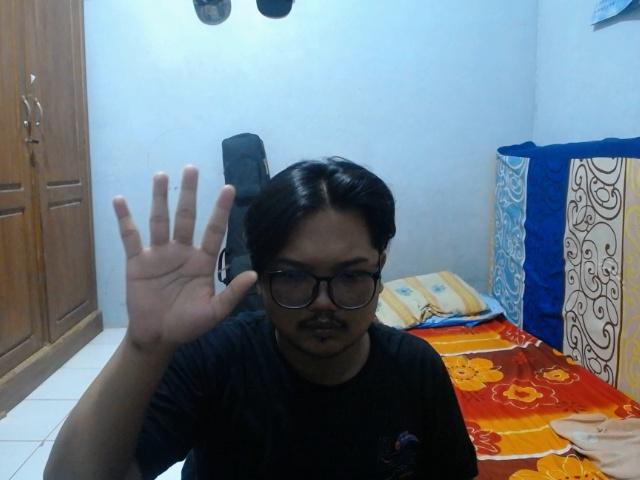Release: (108, 162, 262, 346)
